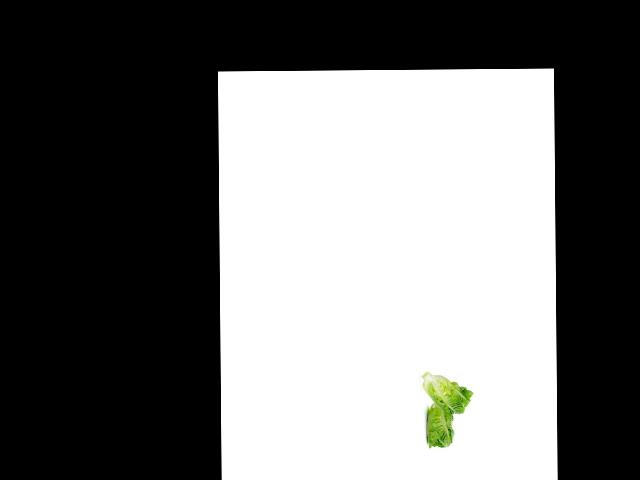lettuce: (418, 370, 471, 419)
